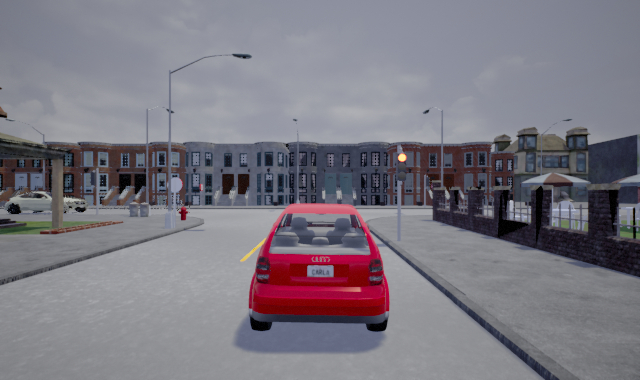traffic_light: (397, 152, 407, 181)
vehicle: (248, 203, 391, 331), (4, 190, 87, 215)
